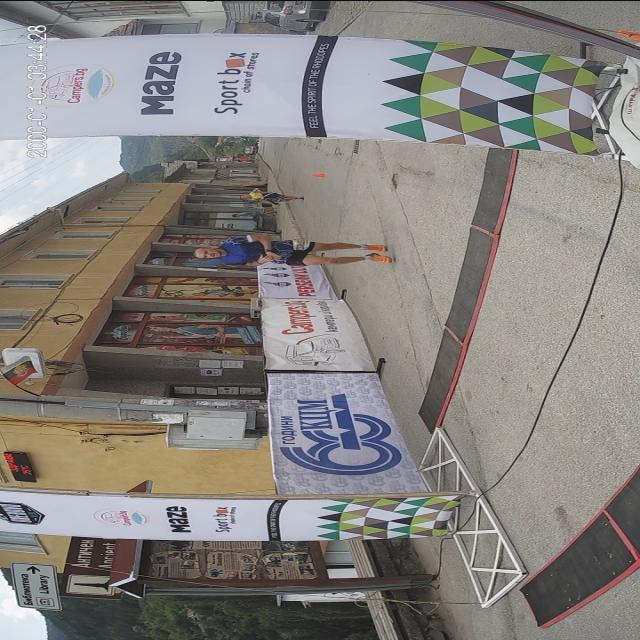runner: (174, 230, 404, 282), (233, 182, 313, 206)
